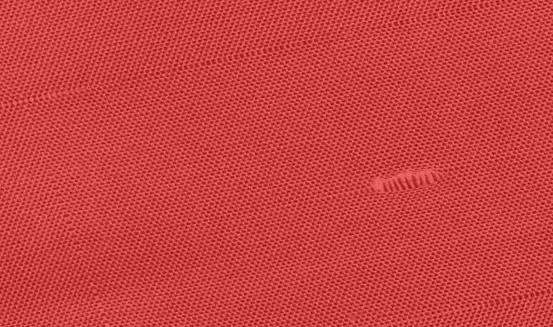slub: (372, 166, 447, 197)
